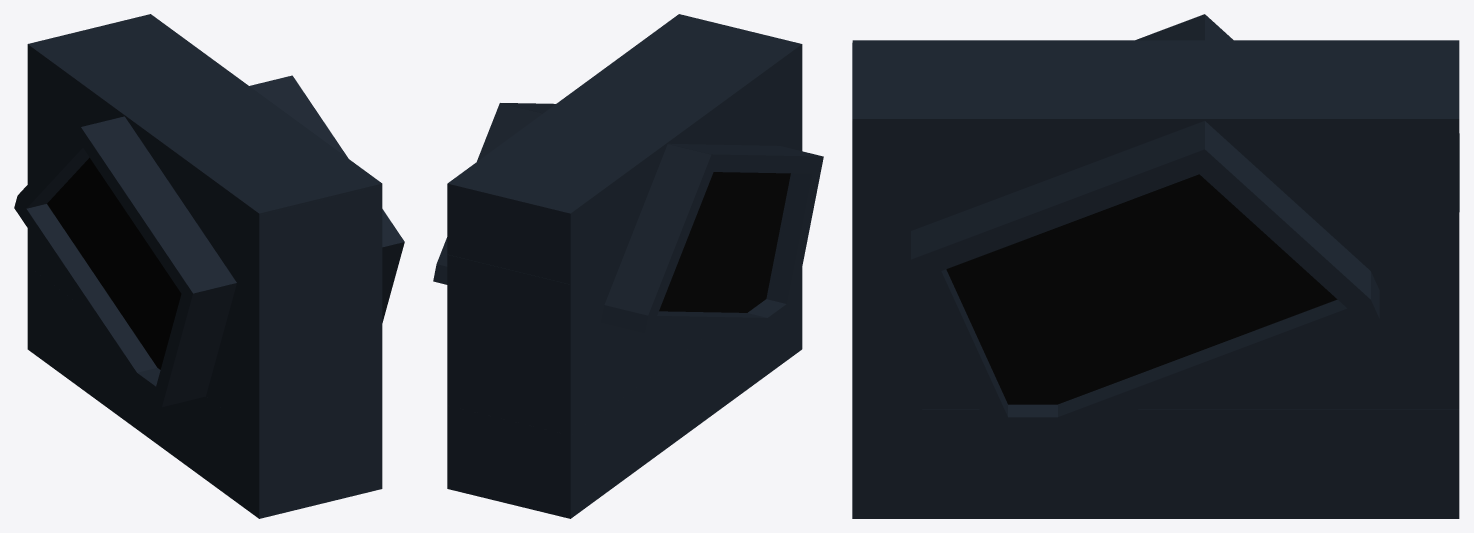
Rendered from clu_little_window_upsidedown.obj.
3 renders of one model, left to right at view 1: azimuth 30°, elevation 25°; view 2: azimuth 150°, elevation 25°; view 3: azimuth 270°, elevation 25°, orthographic. The views are drawn at different scales.
Parts seen in each view (by area): view 1: cube.037, cube.016, cube.035, cube.002, cube.038, cube.015, cube.001, cube, cube.010, cube.003, cube.025, cube.000 (+7 smaller); view 2: cube.015, cube.016, cube.035, cube.038, cube.003, cube.001, cube.010, cube, cube.037, cube.002, cube.004, cube.034 (+7 smaller); view 3: cube.035, cube.038, cube.016, cube.037, cube.015, cube.002, cube.010, cube, cube.003, cube.025, cube.001, cube.034 (+23 smaller).
Part boxes in pixels (<box>): cube.037: <box>232,185,382,518</box>; cube.016: <box>60,38,382,225</box>; cube.035: <box>27,266,233,499</box>; cube.002: <box>77,75,396,293</box>; cube.038: <box>66,157,181,369</box>; cube.015: <box>27,14,183,284</box>; cube.001: <box>154,230,404,406</box>; cube: <box>14,196,157,386</box>; cube.010: <box>27,73,86,163</box>; cube.003: <box>17,127,89,210</box>; cube.025: <box>207,196,249,280</box>; cube.000: <box>135,368,161,406</box>; cube.015: <box>447,159,603,430</box>; cube.016: <box>481,14,802,200</box>; cube.035: <box>447,328,776,518</box>; cube.038: <box>659,172,790,312</box>; cube.003: <box>436,103,717,320</box>; cube.001: <box>766,145,823,315</box>; cube.010: <box>448,188,638,316</box>; cube: <box>433,264,768,335</box>; cube.037: <box>775,56,802,368</box>; cube.002: <box>500,103,815,173</box>; cube.004: <box>589,323,630,397</box>; cube.034: <box>447,334,708,435</box>; cube.035: <box>919,409,1459,518</box>; cube.038: <box>946,174,1295,404</box>; cube.016: <box>852,40,1372,134</box>; cube.037: <box>852,43,922,518</box>; cube.015: <box>1372,40,1459,402</box>; cube.002: <box>932,14,1213,270</box>; cube.010: <box>1281,120,1459,283</box>; cube: <box>1054,272,1379,437</box>; cube.003: <box>1188,14,1370,314</box>; cube.025: <box>875,123,987,230</box>; cube.001: <box>911,223,1013,437</box>; cube.034: <box>1139,388,1459,409</box>.
Size of the model in its own units: 1.5 by 2.07 by 2.85.
